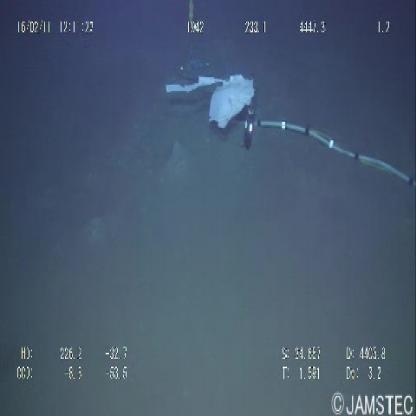Rác: (160, 69, 262, 139)
